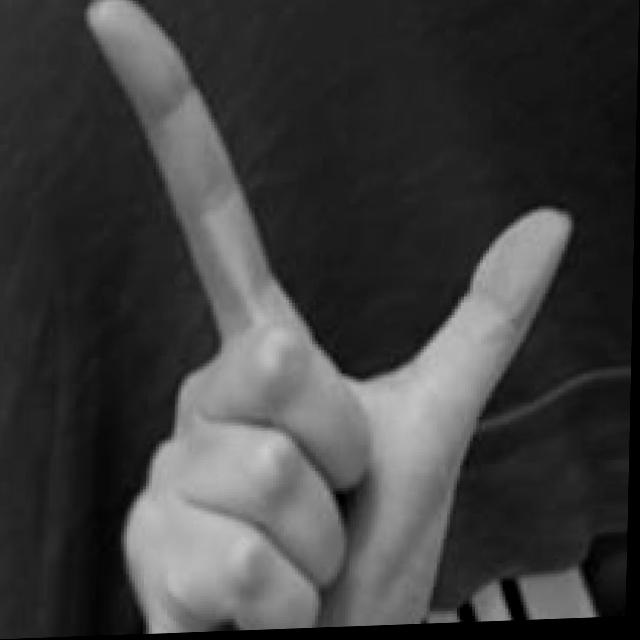L: (64, 0, 582, 637)
